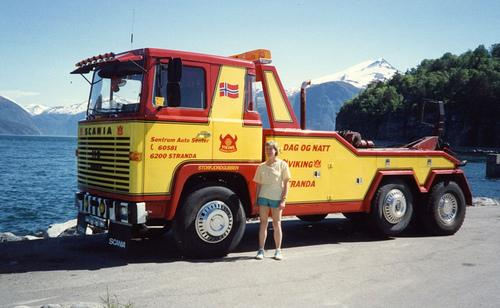truck: (71, 47, 474, 262)
